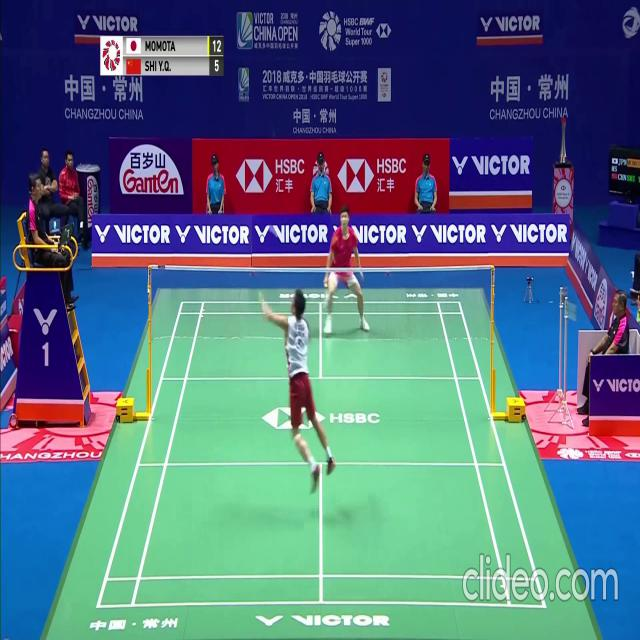Shuttlecock: (271, 224, 275, 231)
